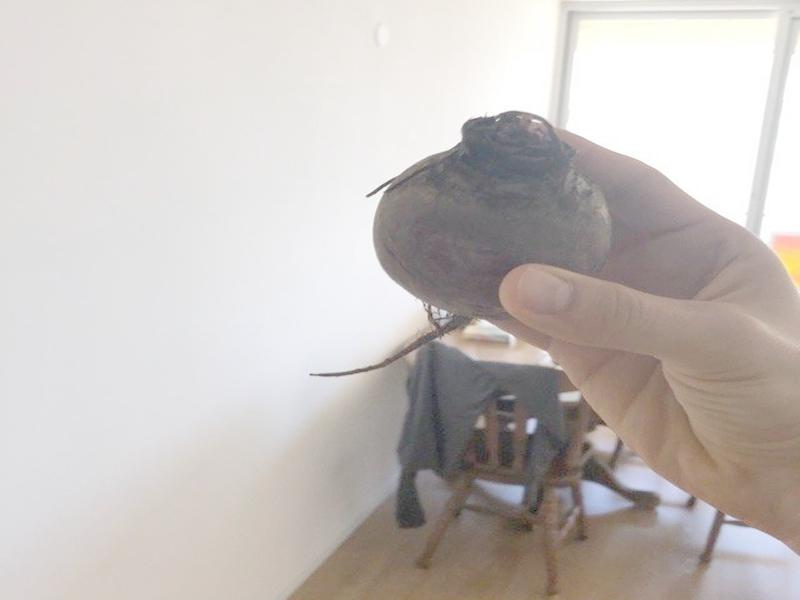Beet: (306, 110, 610, 376)
